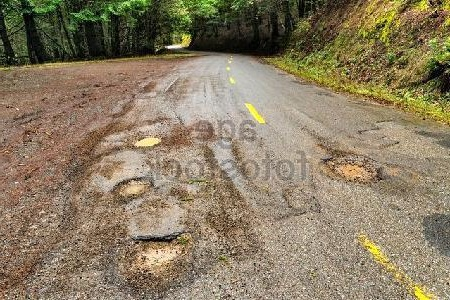pothole: (124, 230, 191, 273), (319, 153, 387, 184), (112, 175, 154, 205), (128, 134, 163, 150)
